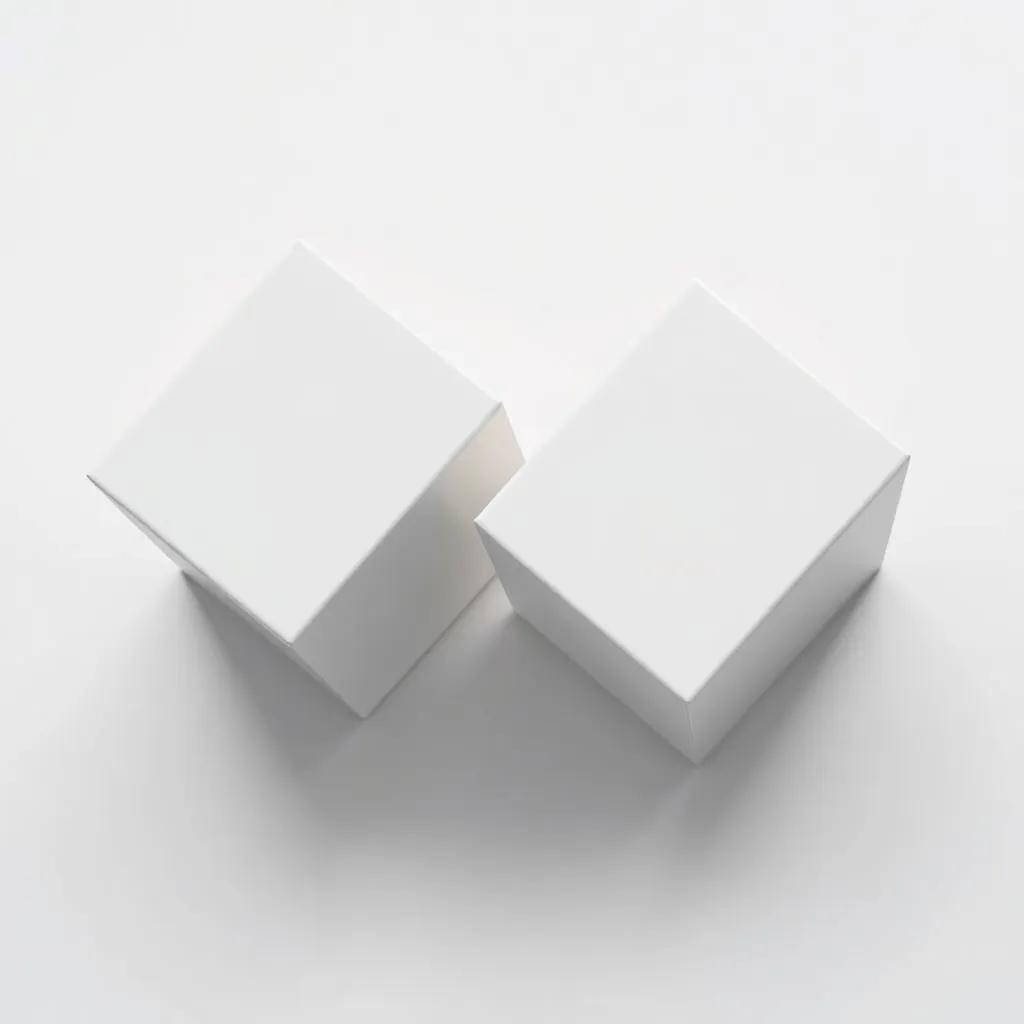cube: (472, 276, 911, 766), (85, 237, 525, 720)
